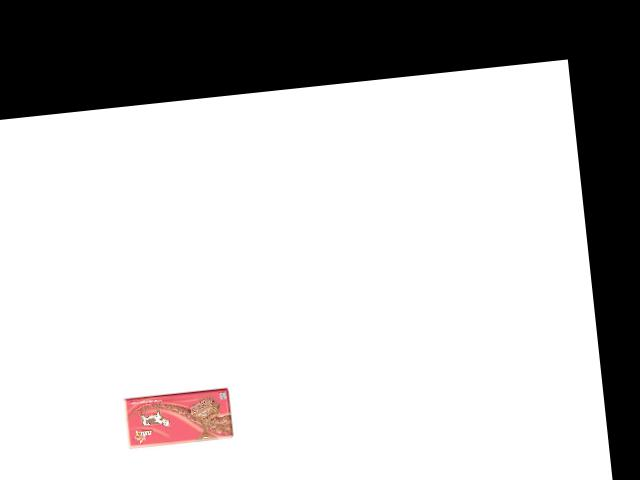chocolate: (134, 395, 238, 458)
